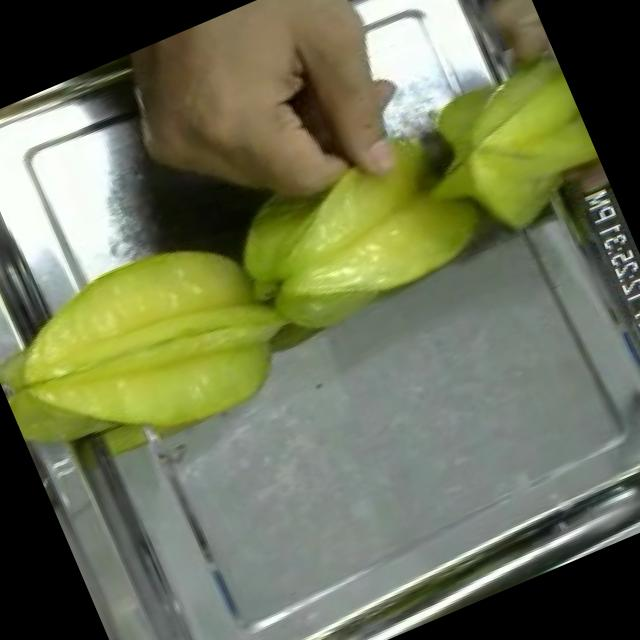fruit: (0, 201, 317, 497), (208, 106, 512, 360), (97, 0, 412, 245), (406, 41, 616, 258)
